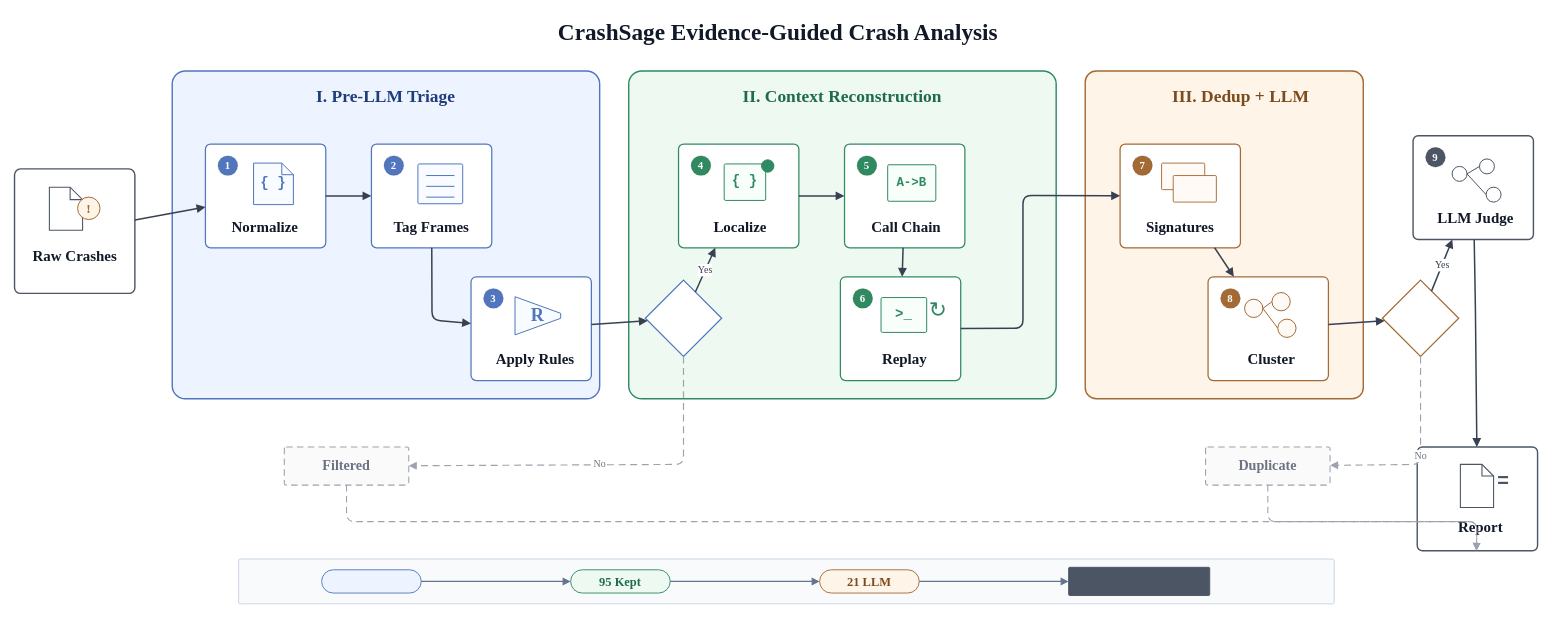
This 1553x618 diagram has some shape labels left out. Each missing label, with the centre of its shape:
123 Raw: (x=371, y=581)
82.9% Reduction: (x=1139, y=581)
Gate: (x=683, y=318)
Rep?: (x=1420, y=318)
